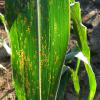Corn rust leaf: (4, 1, 70, 99)
